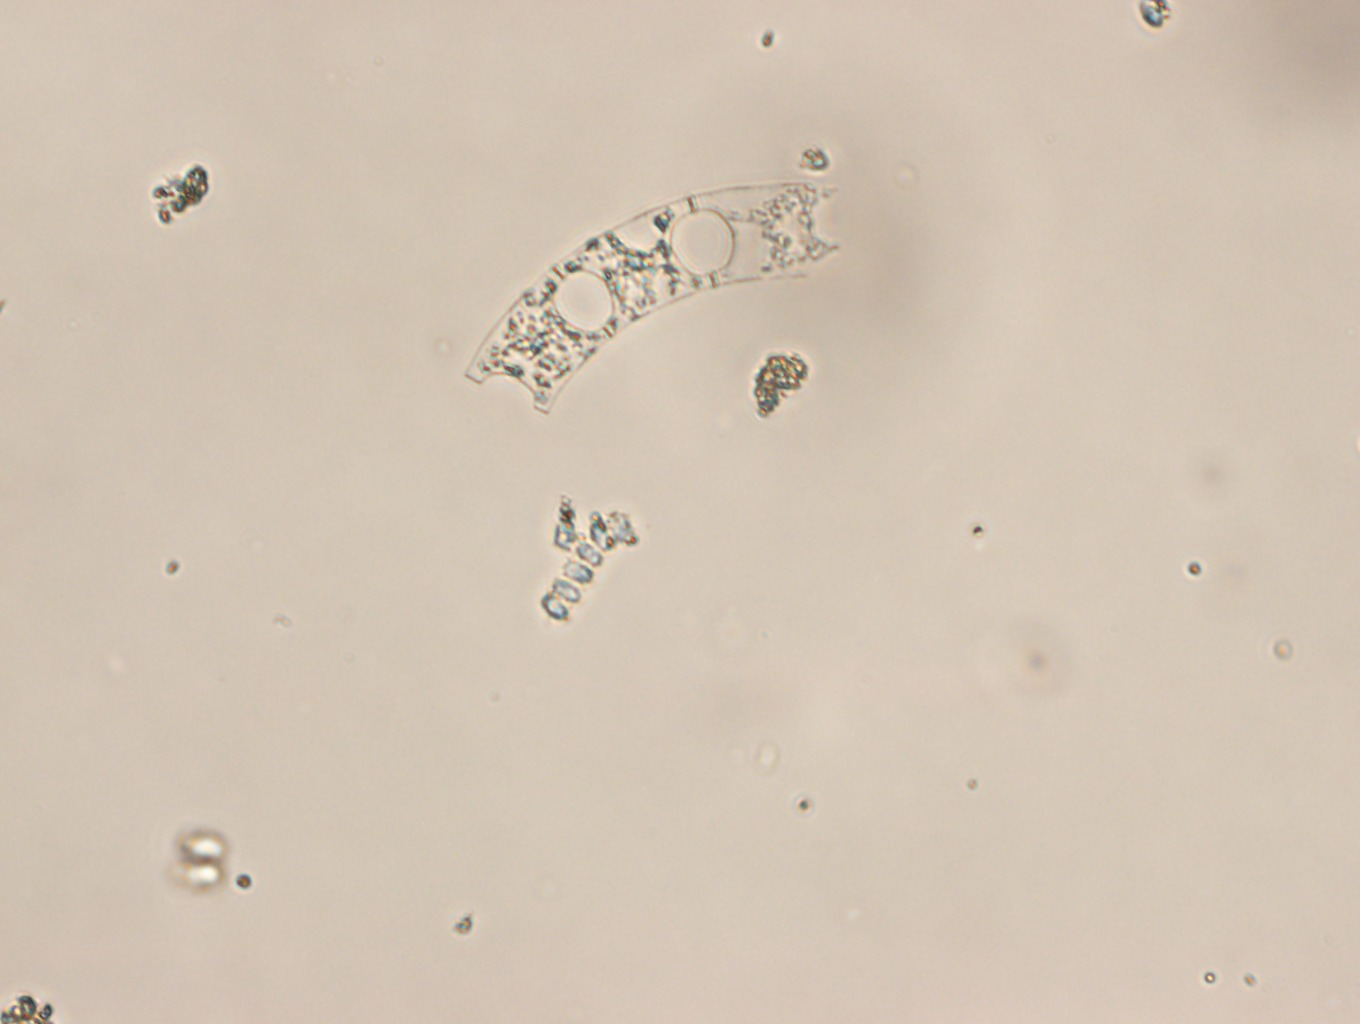eucampia: (462, 180, 842, 417)
skeletonema: (536, 521, 617, 625)
